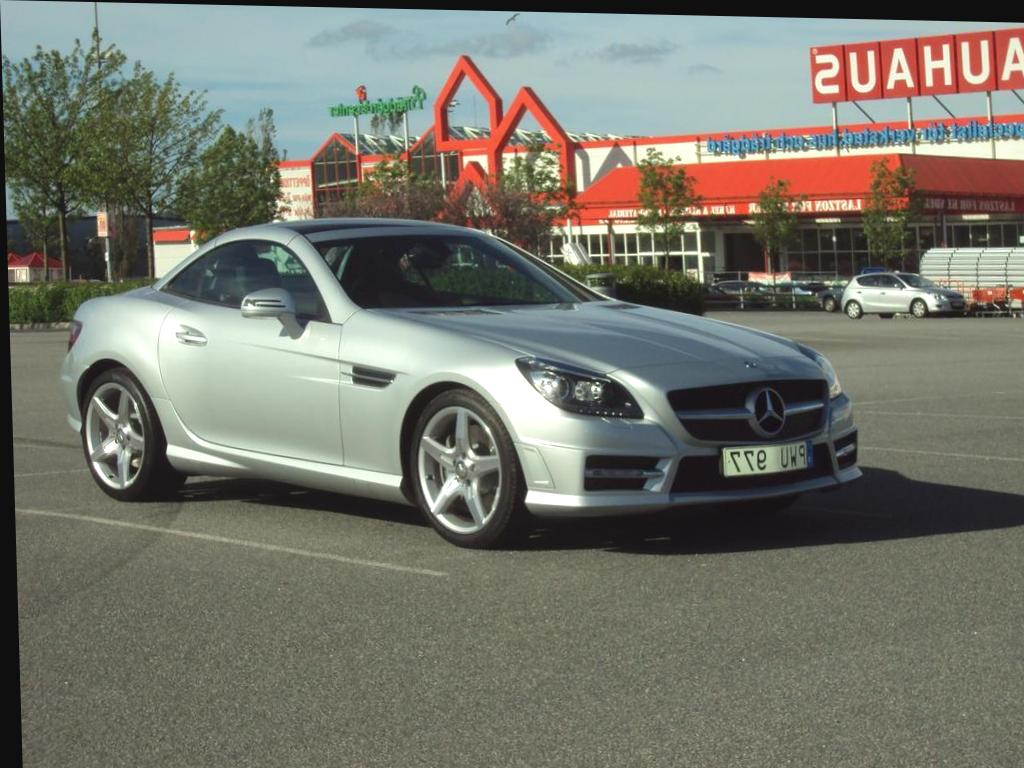License_Plate: (723, 440, 813, 484)
